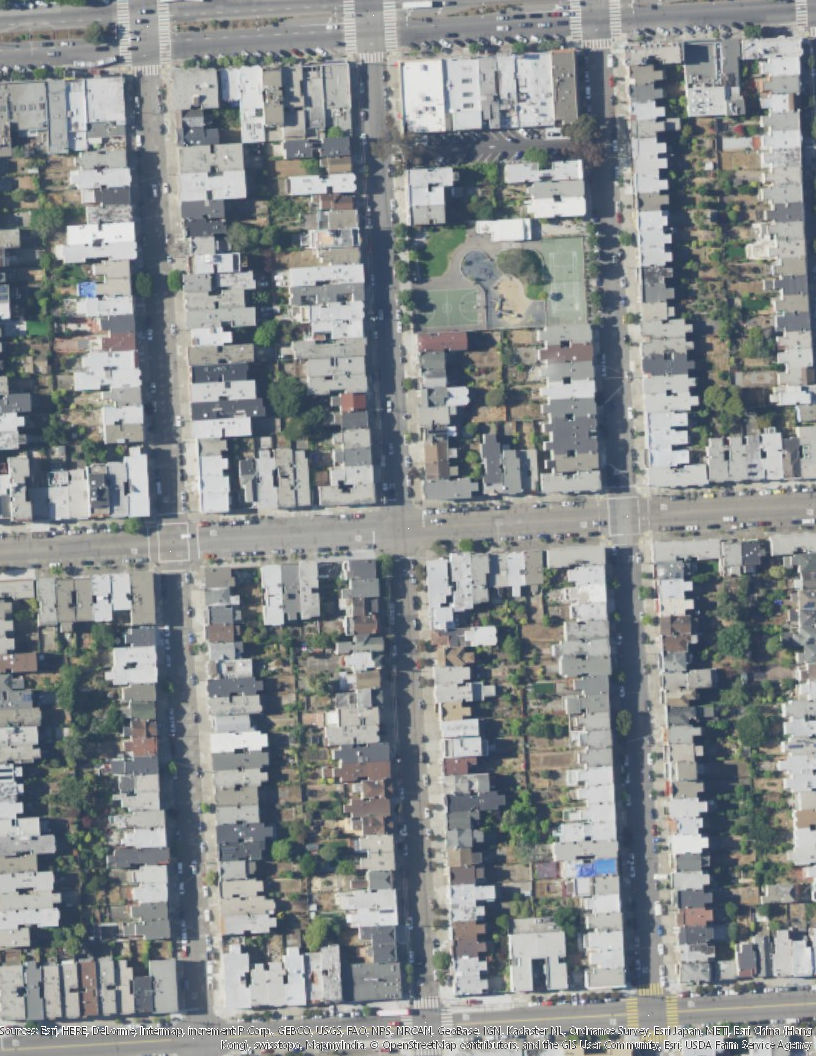zebracross: (154, 1, 173, 62), (115, 1, 133, 65), (341, 1, 358, 56), (381, 2, 400, 49), (568, 1, 584, 40), (608, 1, 623, 38), (665, 995, 681, 1029), (625, 996, 641, 1028), (579, 37, 613, 52), (635, 982, 667, 997), (792, 1, 810, 27), (129, 62, 158, 78), (410, 994, 441, 1008), (356, 51, 387, 65), (403, 1013, 414, 1052), (442, 1006, 454, 1035)
